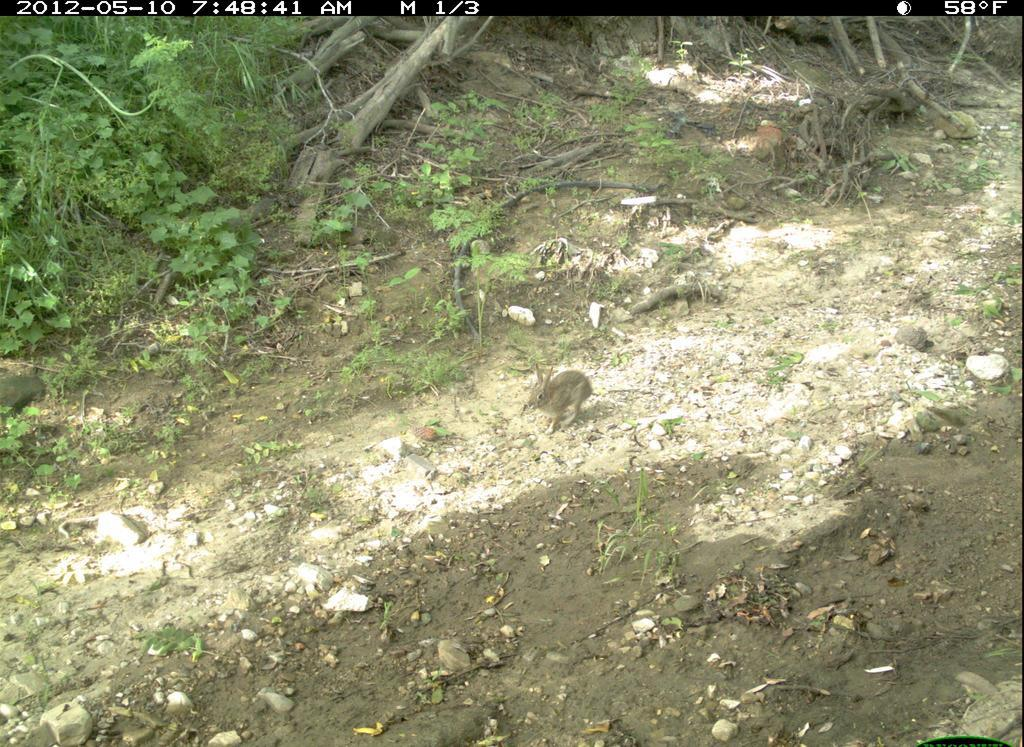rabbit: (519, 360, 626, 432)
